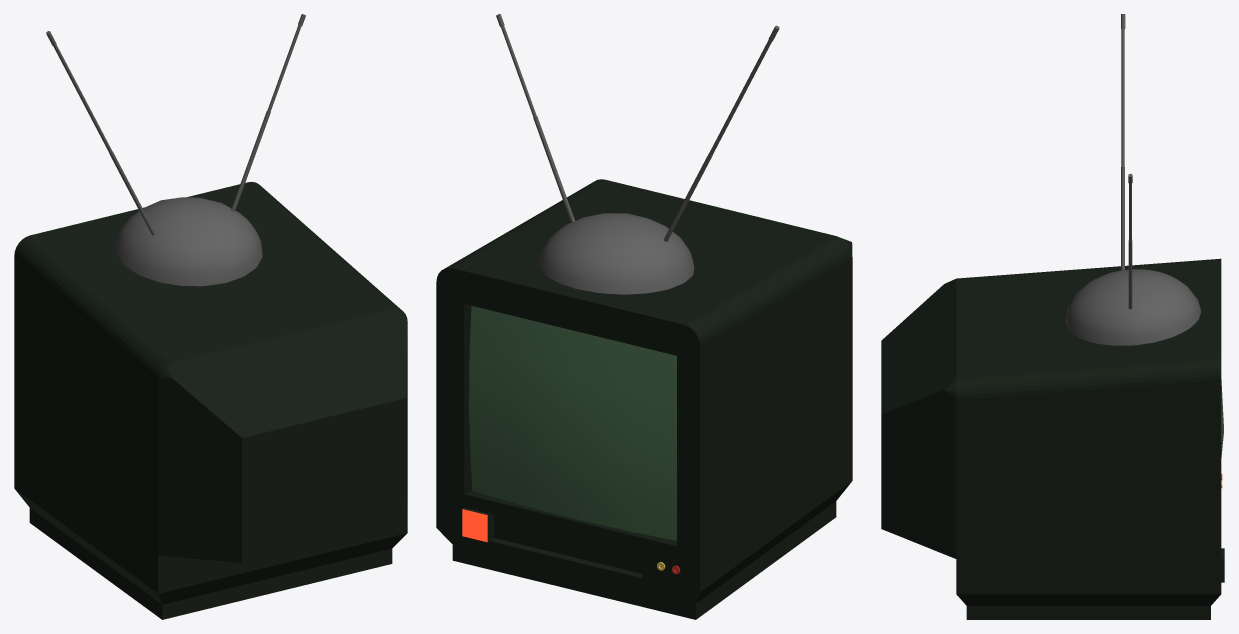
The model's file is TV_prop_Antenna.fbx.
3 renders of one model, left to right at view 1: azimuth 30°, elevation 25°; view 2: azimuth 150°, elevation 25°; view 3: azimuth 270°, elevation 25°, orthographic. The views are drawn at different scales.
Visible parts, largest first — view 1: TV_main, antennas; view 2: TV_main, screen, antennas; view 3: TV_main, antennas.
Boxes of the visible parts, box(x1,y1,x2,y2) form: TV_main: box(14, 182, 407, 619); antennas: box(46, 14, 305, 286); TV_main: box(436, 179, 852, 619); screen: box(469, 305, 676, 540); antennas: box(496, 14, 779, 294); TV_main: box(881, 258, 1224, 619); antennas: box(1065, 14, 1200, 345).
Size of the model in its own units: 187 by 352 by 223.
